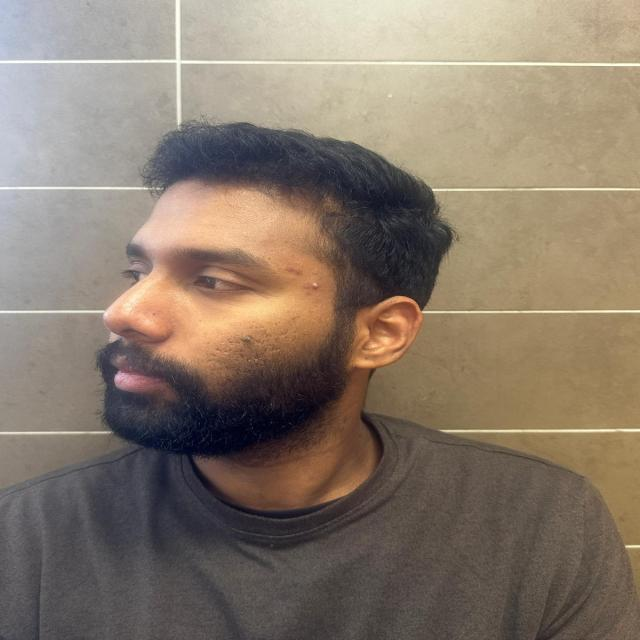nocap: (126, 118, 476, 276)
